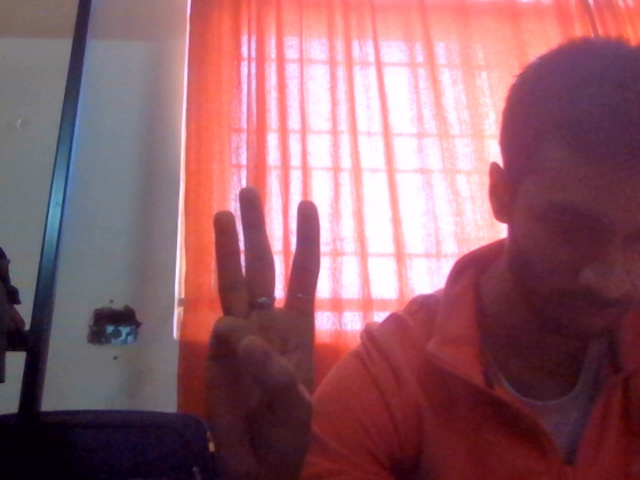W: (173, 163, 387, 480)
